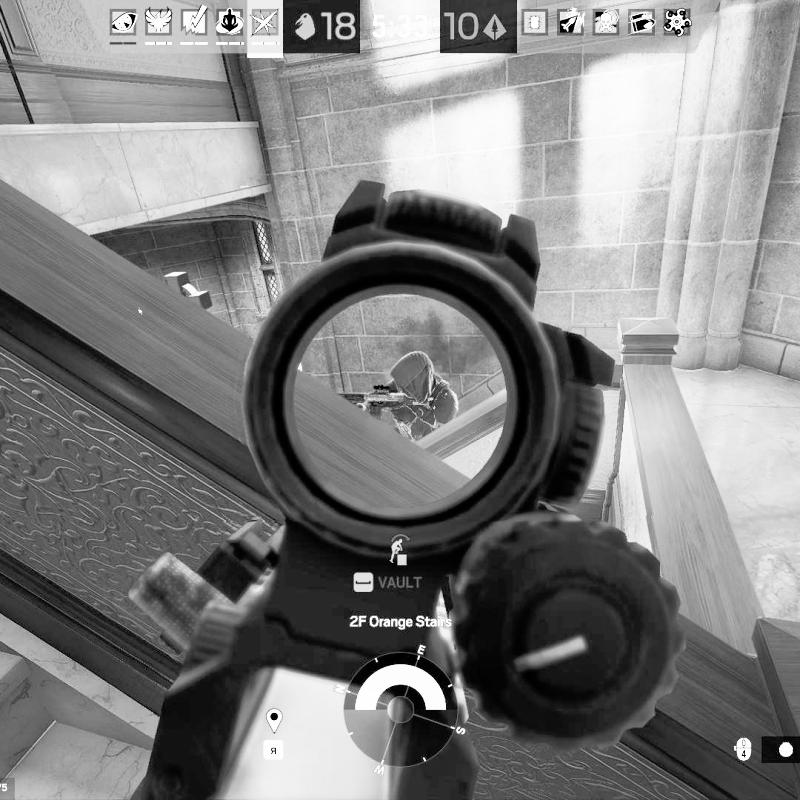Character: (353, 350, 461, 446)
Head: (390, 351, 436, 405)
